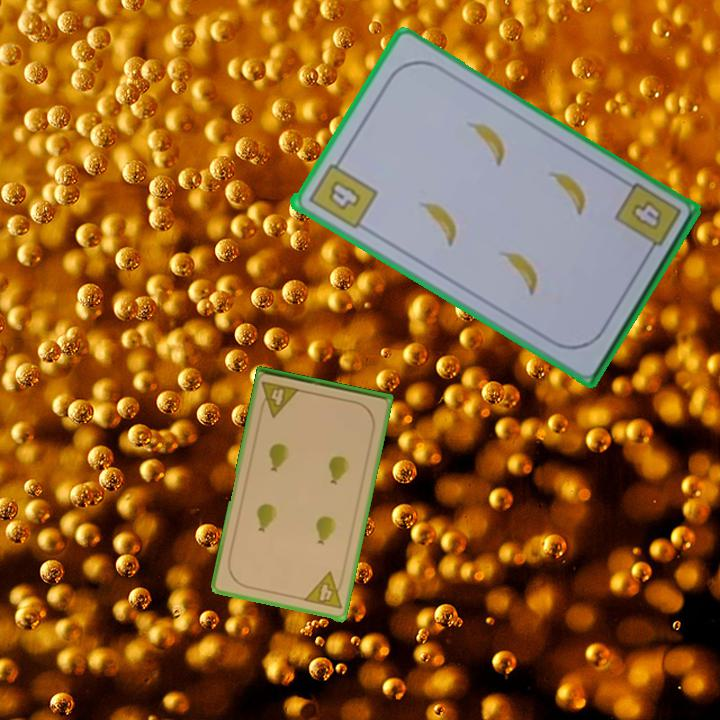4b: (304, 152, 380, 232), (626, 196, 665, 234)
4p: (300, 569, 347, 612), (256, 378, 303, 420)
